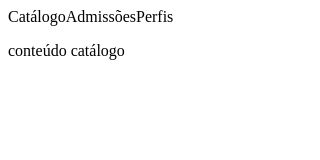
Test: Tabs › switches panel on click and reports the change
Click the tab "Perfis": (155, 17) left=136, top=8, right=173, bottom=26
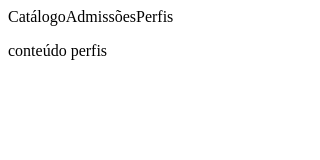
Now the panel reads "conteúdo perfis", box left=8, top=42, right=107, bottom=59
